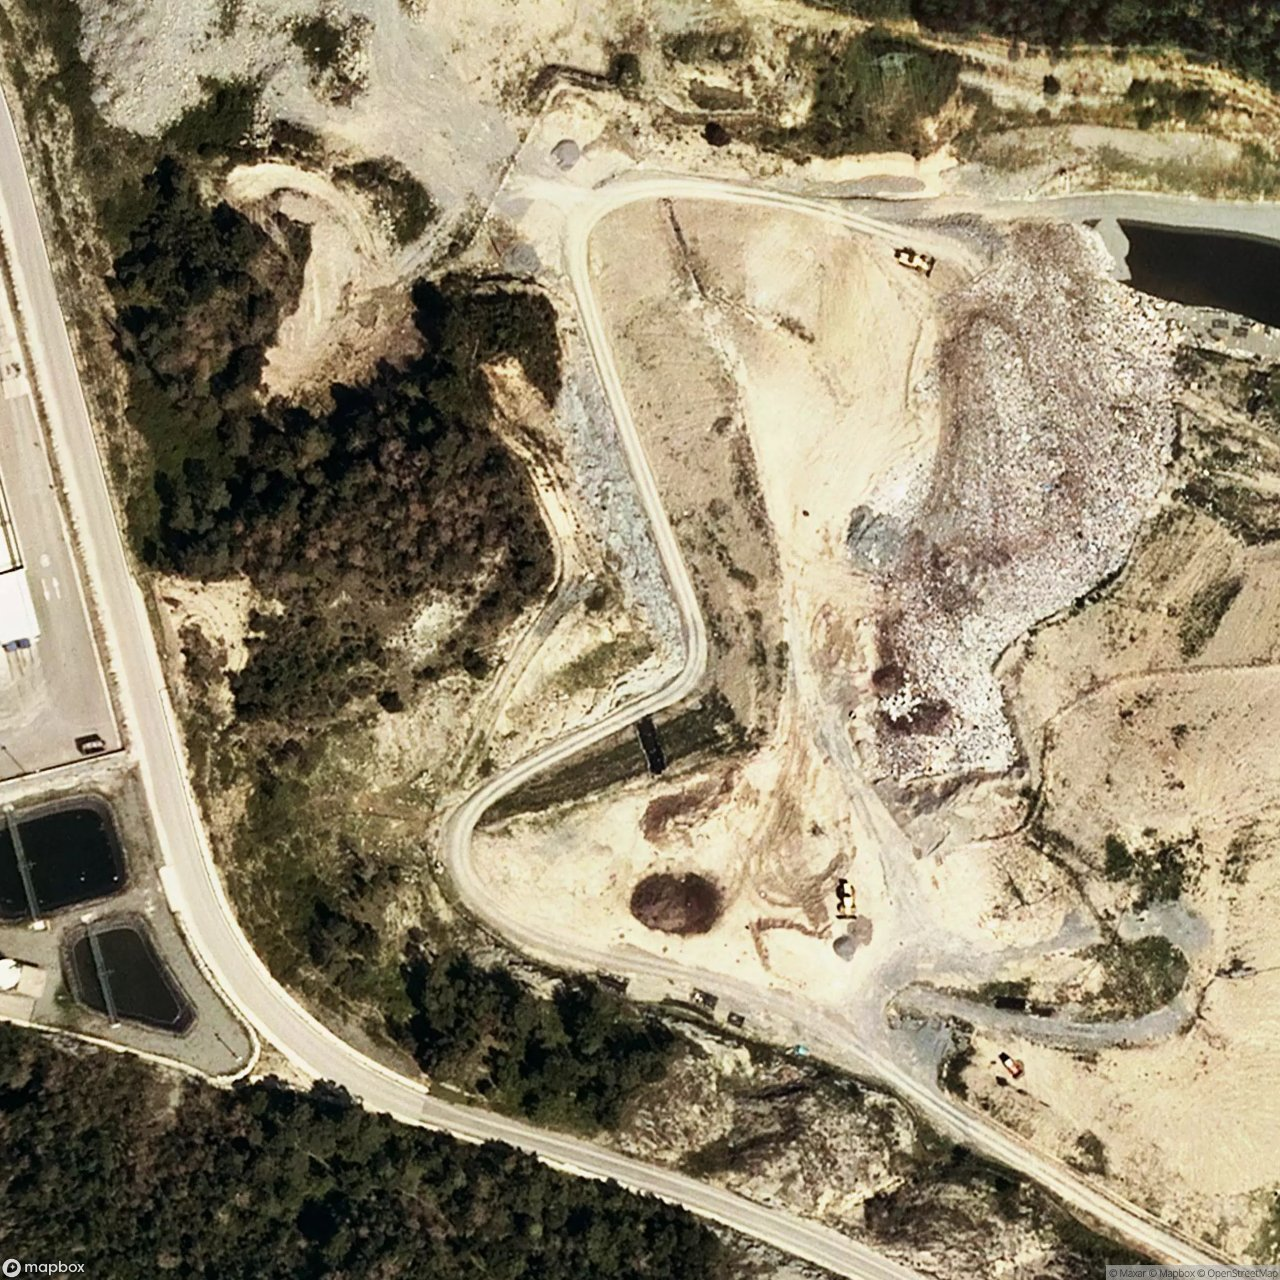dump_site: (851, 203, 1279, 862)
